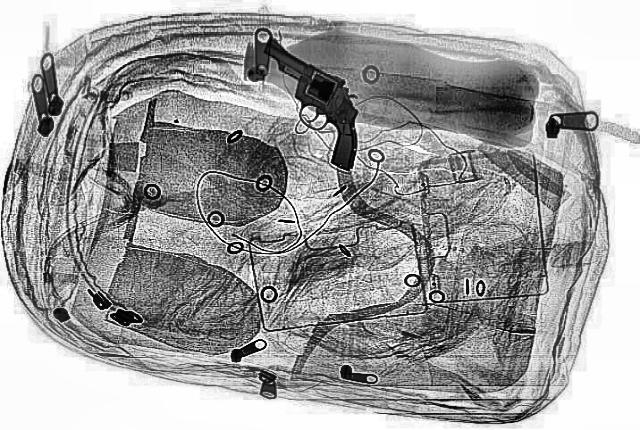Gun: (236, 31, 404, 176)
